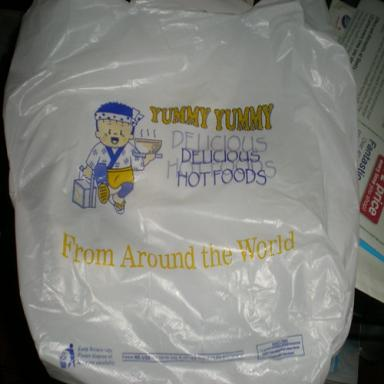plasticbag: (12, 4, 350, 384)
